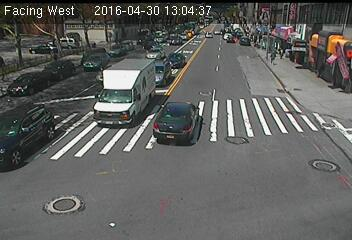neg: (92, 154, 144, 222), (159, 90, 200, 145), (302, 117, 338, 164), (96, 62, 129, 105), (34, 61, 65, 102), (54, 183, 84, 224), (265, 71, 294, 110), (205, 29, 230, 63), (166, 27, 190, 59), (227, 130, 251, 162), (312, 29, 336, 60), (189, 173, 210, 201), (276, 149, 296, 176), (242, 50, 258, 71)
pos: (269, 46, 282, 62)
